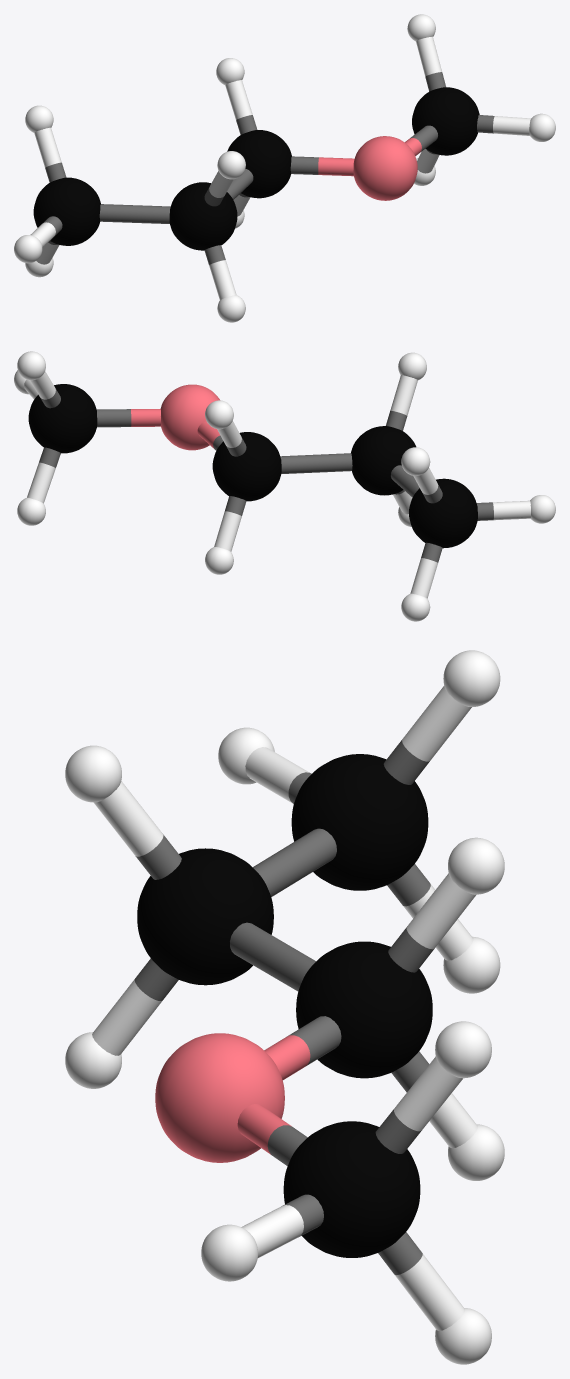
Rendered from 1-methoxypropane.glb.
3 views of the same model, one above another, from view 1: azimuth 30°, elevation 25°; view 2: azimuth 150°, elevation 25°; view 3: azimuth 270°, elevation 25° (orthographic). The views are drawn at different scales.
Parts seen in each view (by area): view 1: Oxygen_ball.001, Hydrogen_sticks_cylinder.072; view 2: Oxygen_ball.001, Hydrogen_sticks_cylinder.072; view 3: Oxygen_ball.001, Hydrogen_sticks_cylinder.072.
Part boxes in pixels (<box>): Oxygen_ball.001: <box>14,14,555,322</box>; Hydrogen_sticks_cylinder.072: <box>30,36,530,299</box>; Oxygen_ball.001: <box>14,351,555,621</box>; Hydrogen_sticks_cylinder.072: <box>24,371,530,598</box>; Oxygen_ball.001: <box>65,650,504,1364</box>; Hydrogen_sticks_cylinder.072: <box>92,686,477,1330</box>.
Bounding box in the file's own units: 6.94 × 2.1 × 2.47.
